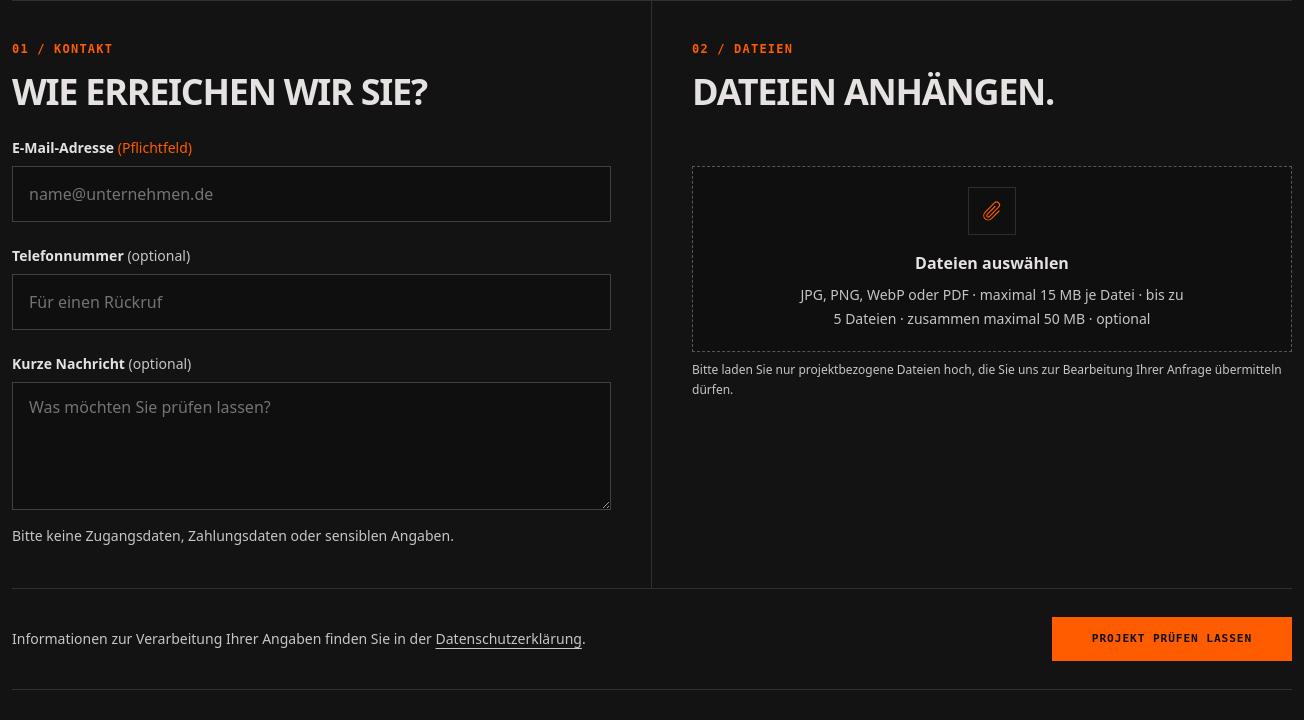
LeadForm measurement › never copies configurator values, services or postal code into analytics
Type "test@example.test" into the field labelled "E-Mail-Adresse (Pflichtfeld)" at [312, 194], box 12,166 -> 611,222
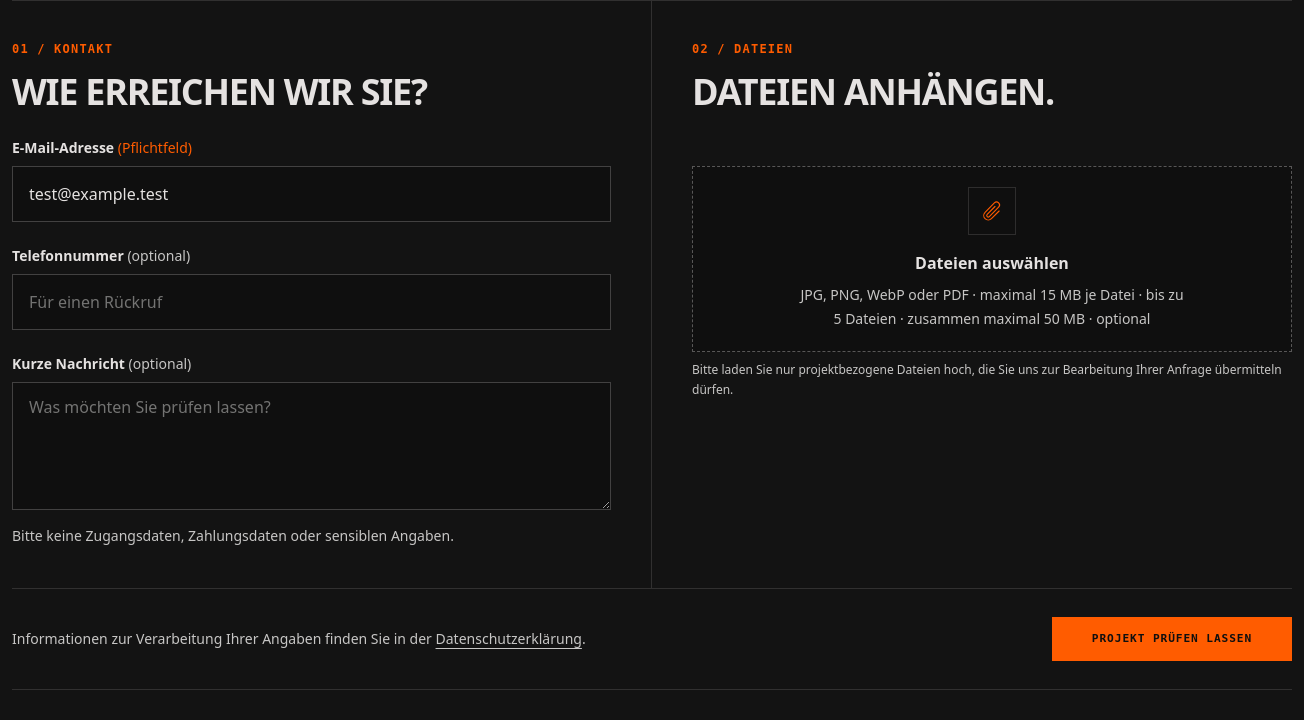
Submit the form "E-Mail-Adresse"
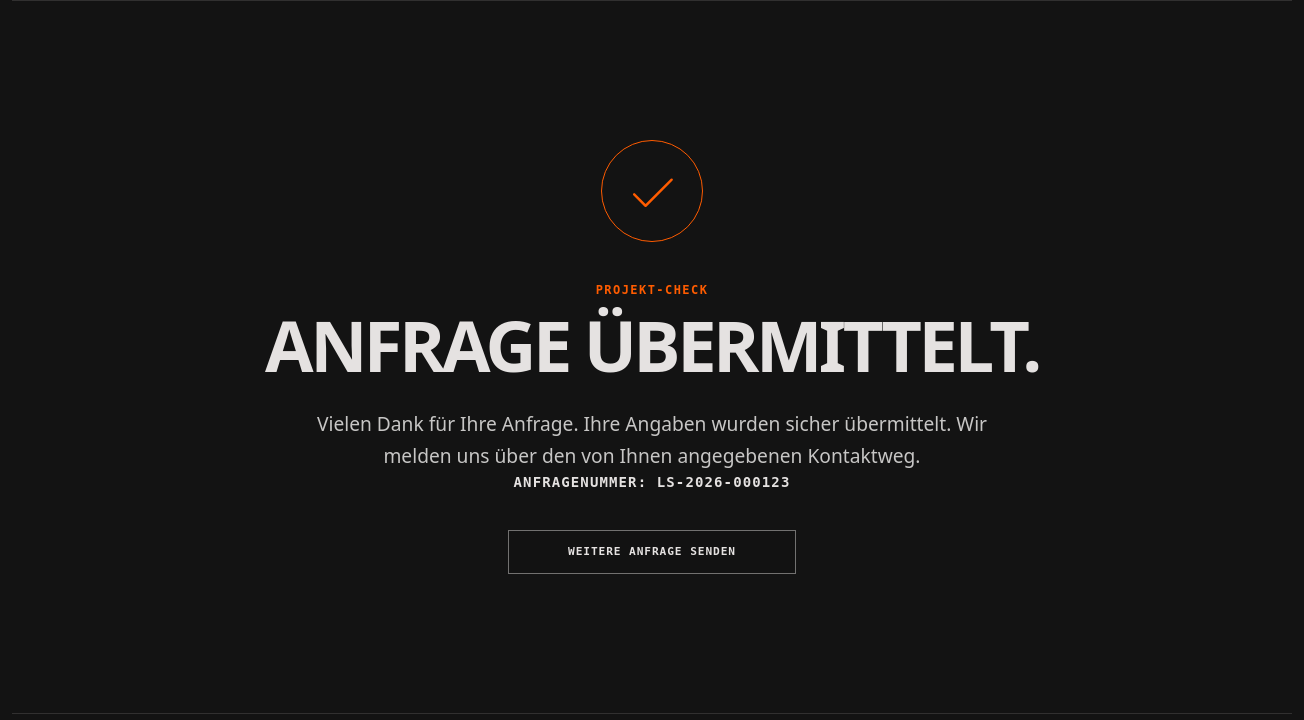
Now the heading "Anfrage übermittelt." is shown, box 265,311 -> 1039,380
